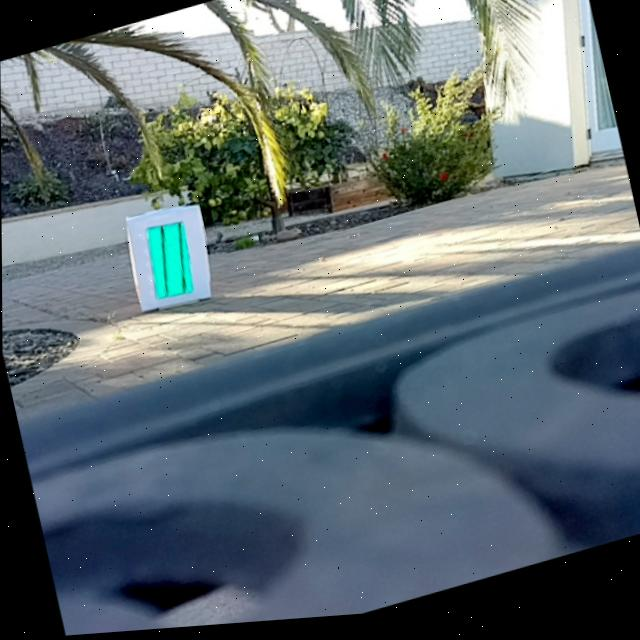led: (139, 216, 199, 308)
